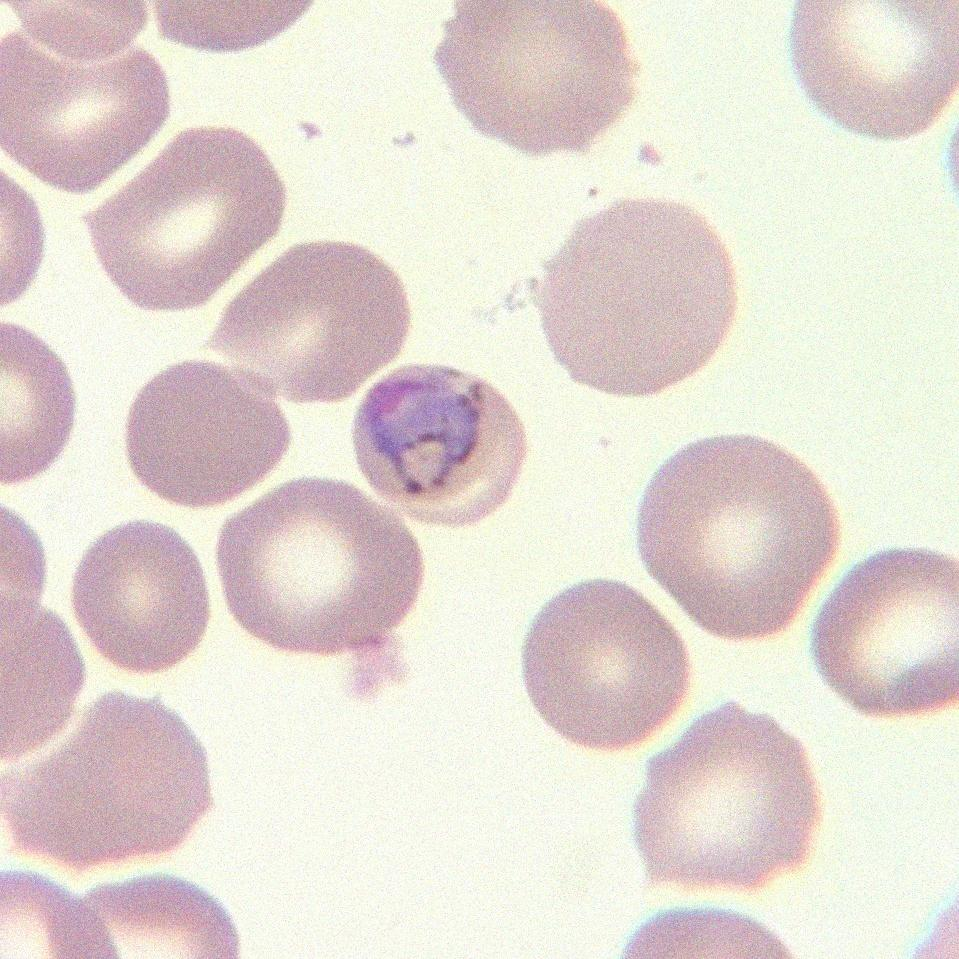Infected: (350, 364, 530, 521)
Uninfected: (634, 436, 839, 643), (534, 194, 735, 396), (214, 476, 420, 657), (628, 694, 822, 886), (2, 688, 210, 865), (90, 127, 286, 311), (218, 236, 410, 407), (438, 0, 633, 156), (520, 580, 692, 748), (0, 26, 169, 188), (810, 546, 959, 718), (124, 356, 292, 508), (786, 0, 958, 136), (74, 520, 207, 675)
